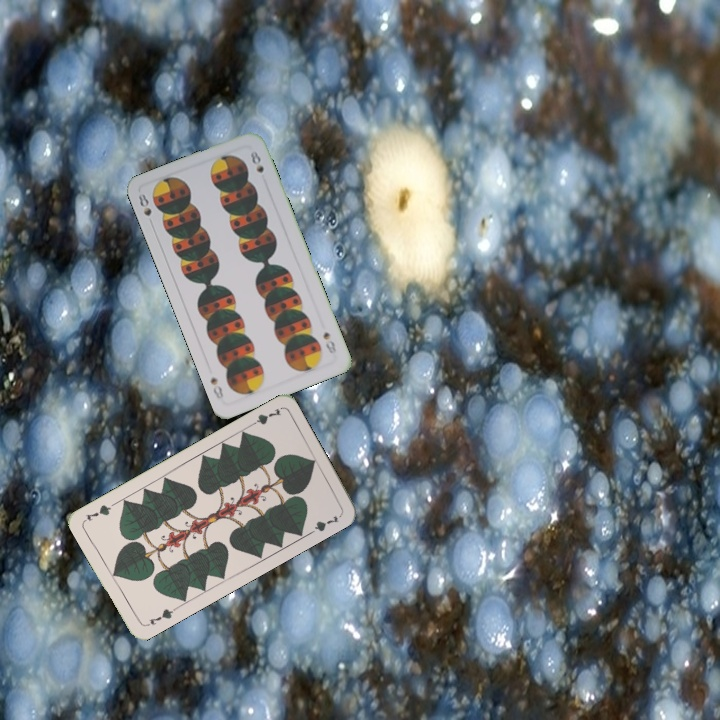G7: (245, 404, 284, 430), (141, 604, 179, 629)
S8: (134, 189, 156, 229), (319, 327, 339, 356)
